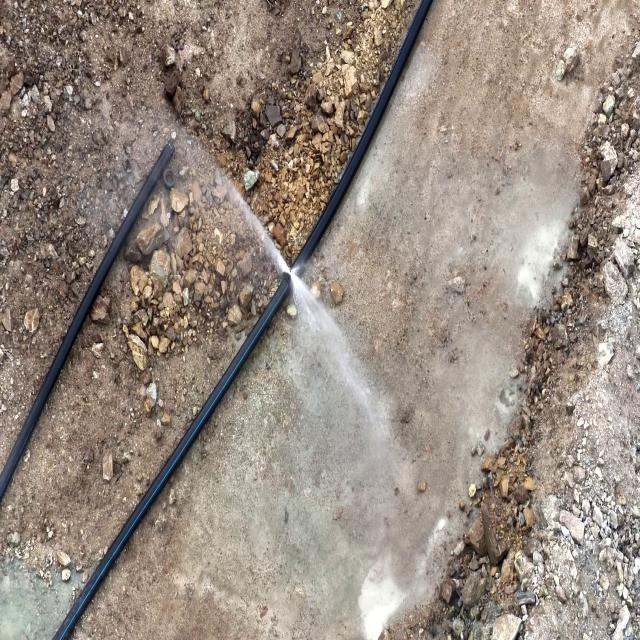leak: (229, 186, 352, 348)
